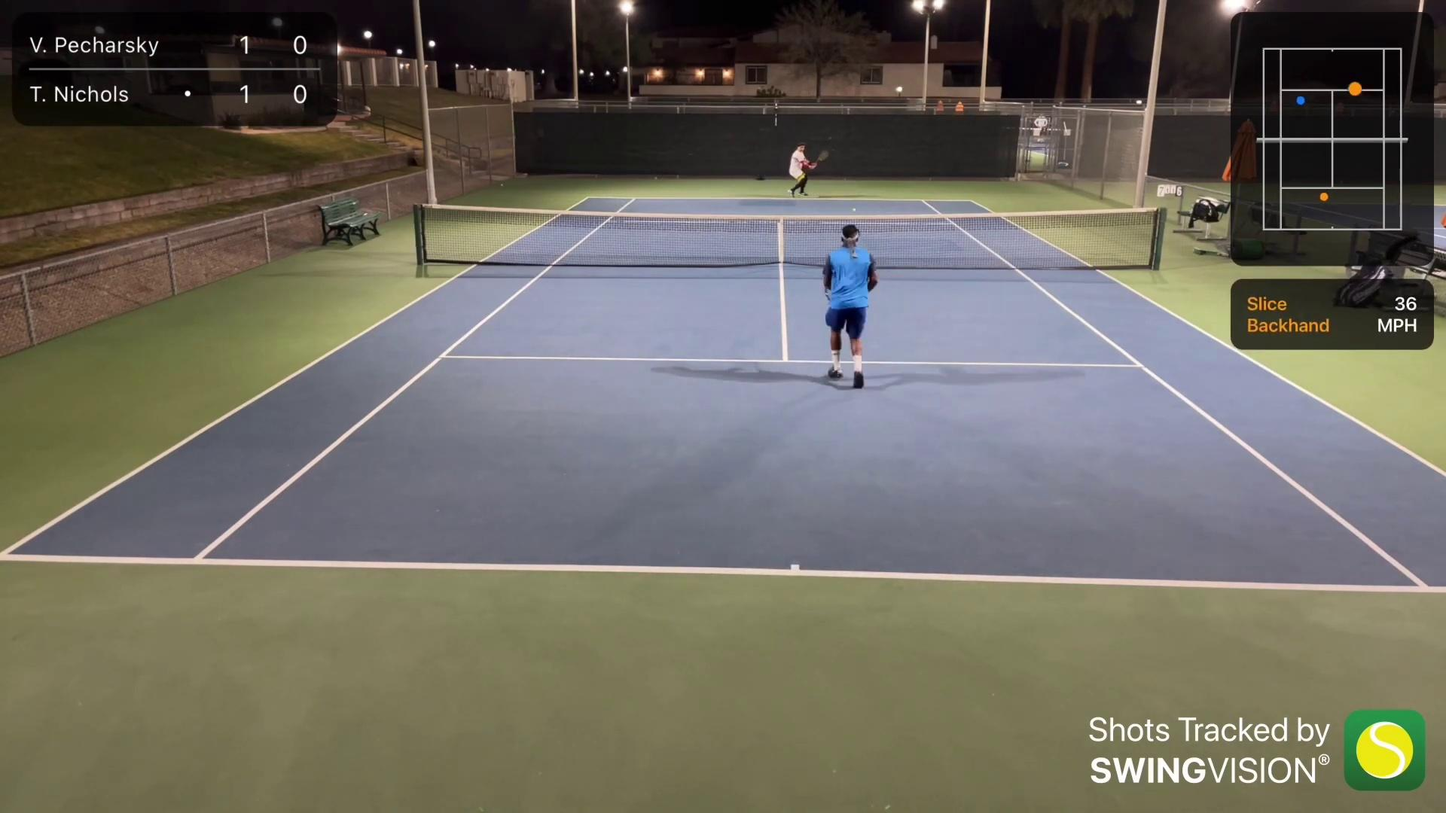ball: (850, 206, 859, 213)
